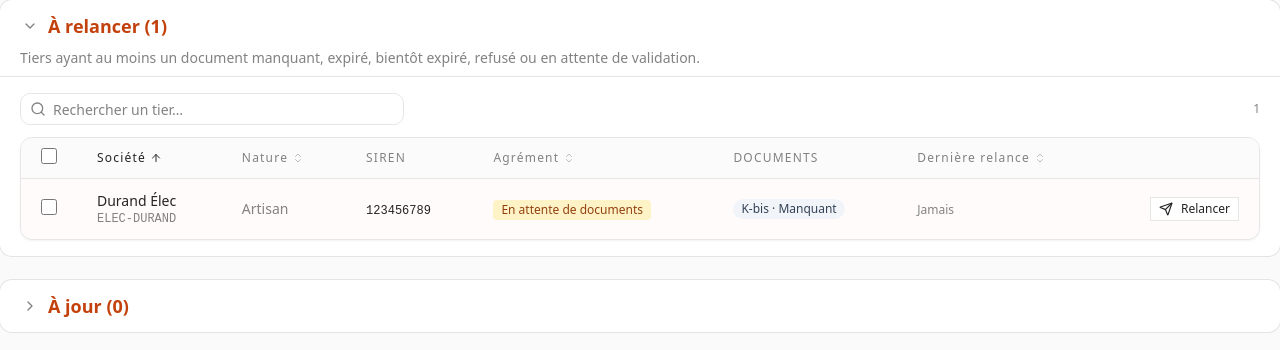
Scenario: ReferencementListe › active la relance en masse après sélection d’une ligne
Check: the text "Relancer la sélection" is not shown
Note: Coche la ligne (la 1re checkbox est le "tout sélectionner").
Click the checkbox named "Sélectionner Durand Élec": (49, 206) [41,198,57,214]
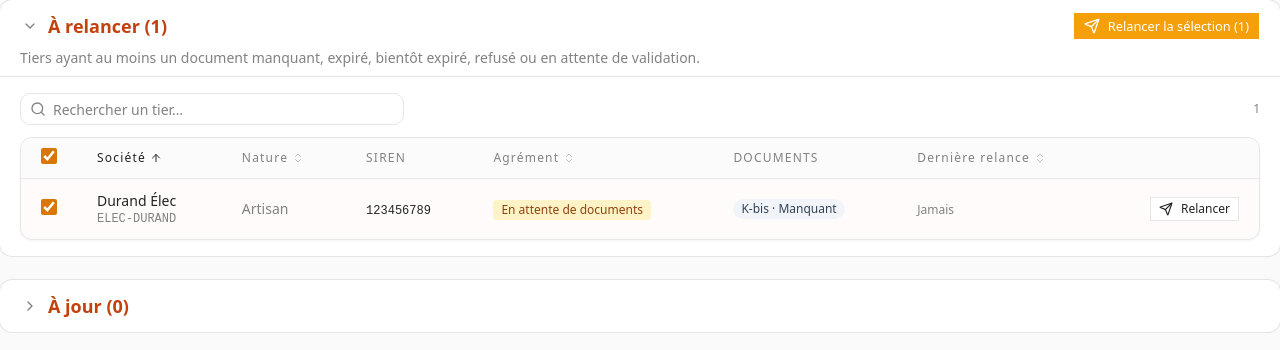
Check: the button "Relancer la sélection (1)" is shown, box [1073,12,1260,40]
